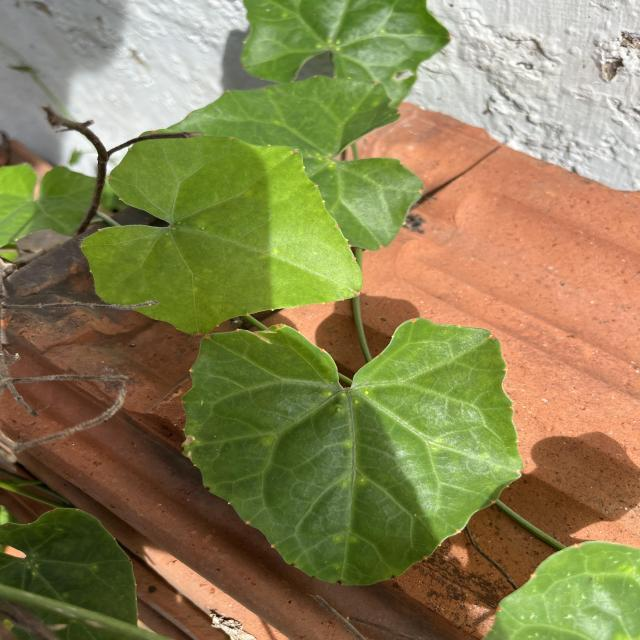Coccinia grandis: (177, 315, 527, 588), (78, 126, 366, 338)
